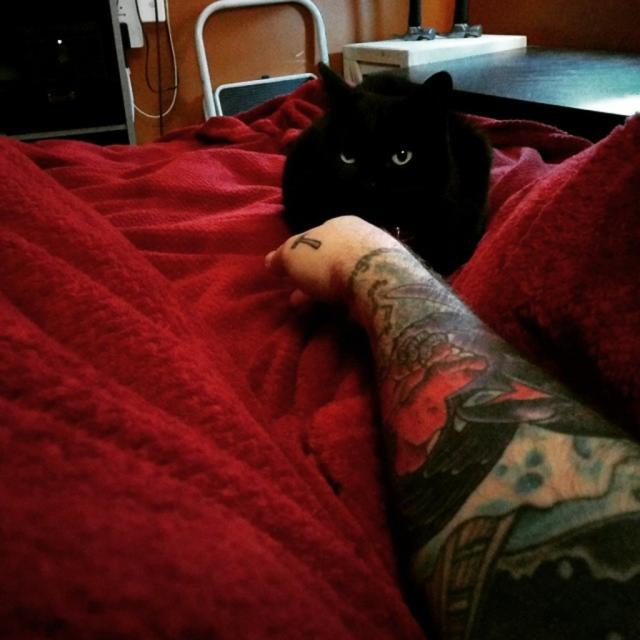Cat: (283, 62, 493, 276)
